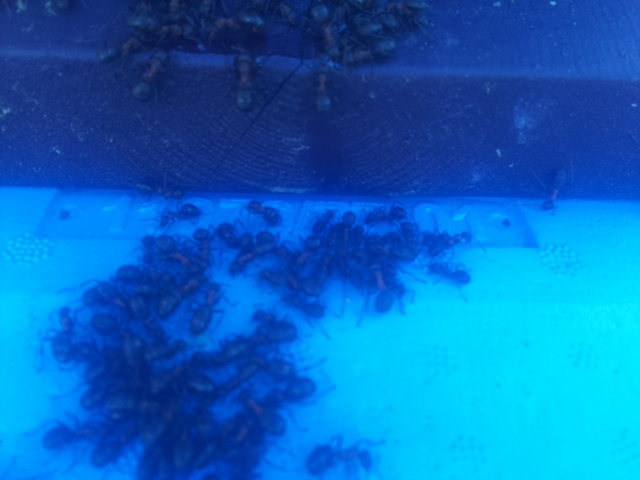ant: (126, 43, 172, 108), (304, 0, 353, 52), (230, 51, 256, 114), (537, 169, 573, 213), (311, 65, 333, 111)
